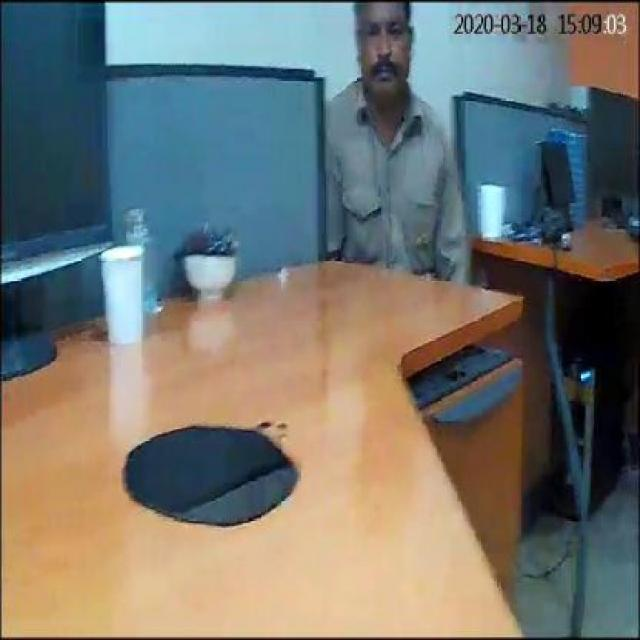spill: (118, 422, 294, 524)
